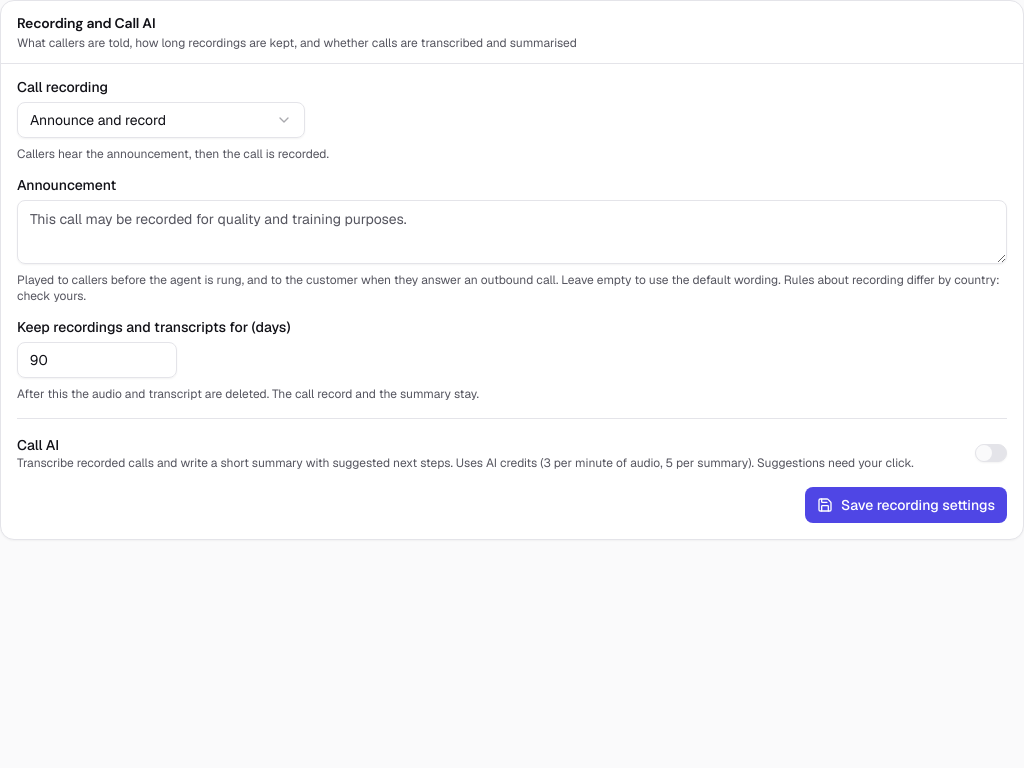
Test: Recording and Call AI settings card › will not save a retention period outside 1 to 3650 days
Step 1. Replace the text in the number field labelled "Keep recordings and transcripts for (days)" with "0" → [97, 360], box [17,342,177,378]
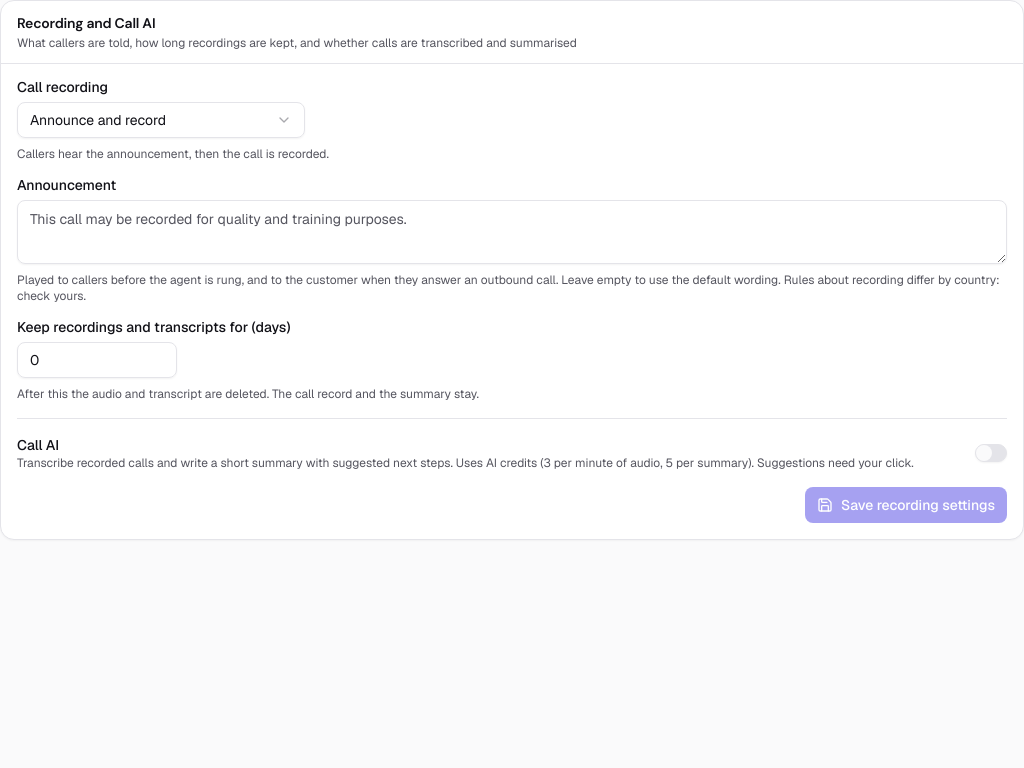
expect the button with test id "recording-settings-save" is disabled: met, box [805,487,1007,523]
